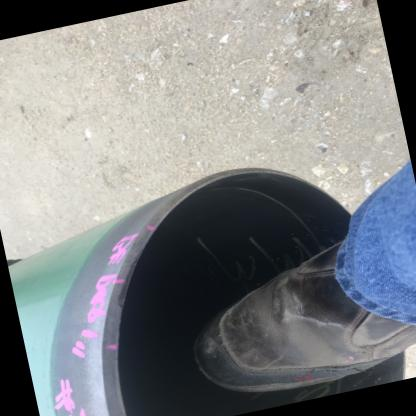Bevel: (80, 256, 164, 325)
